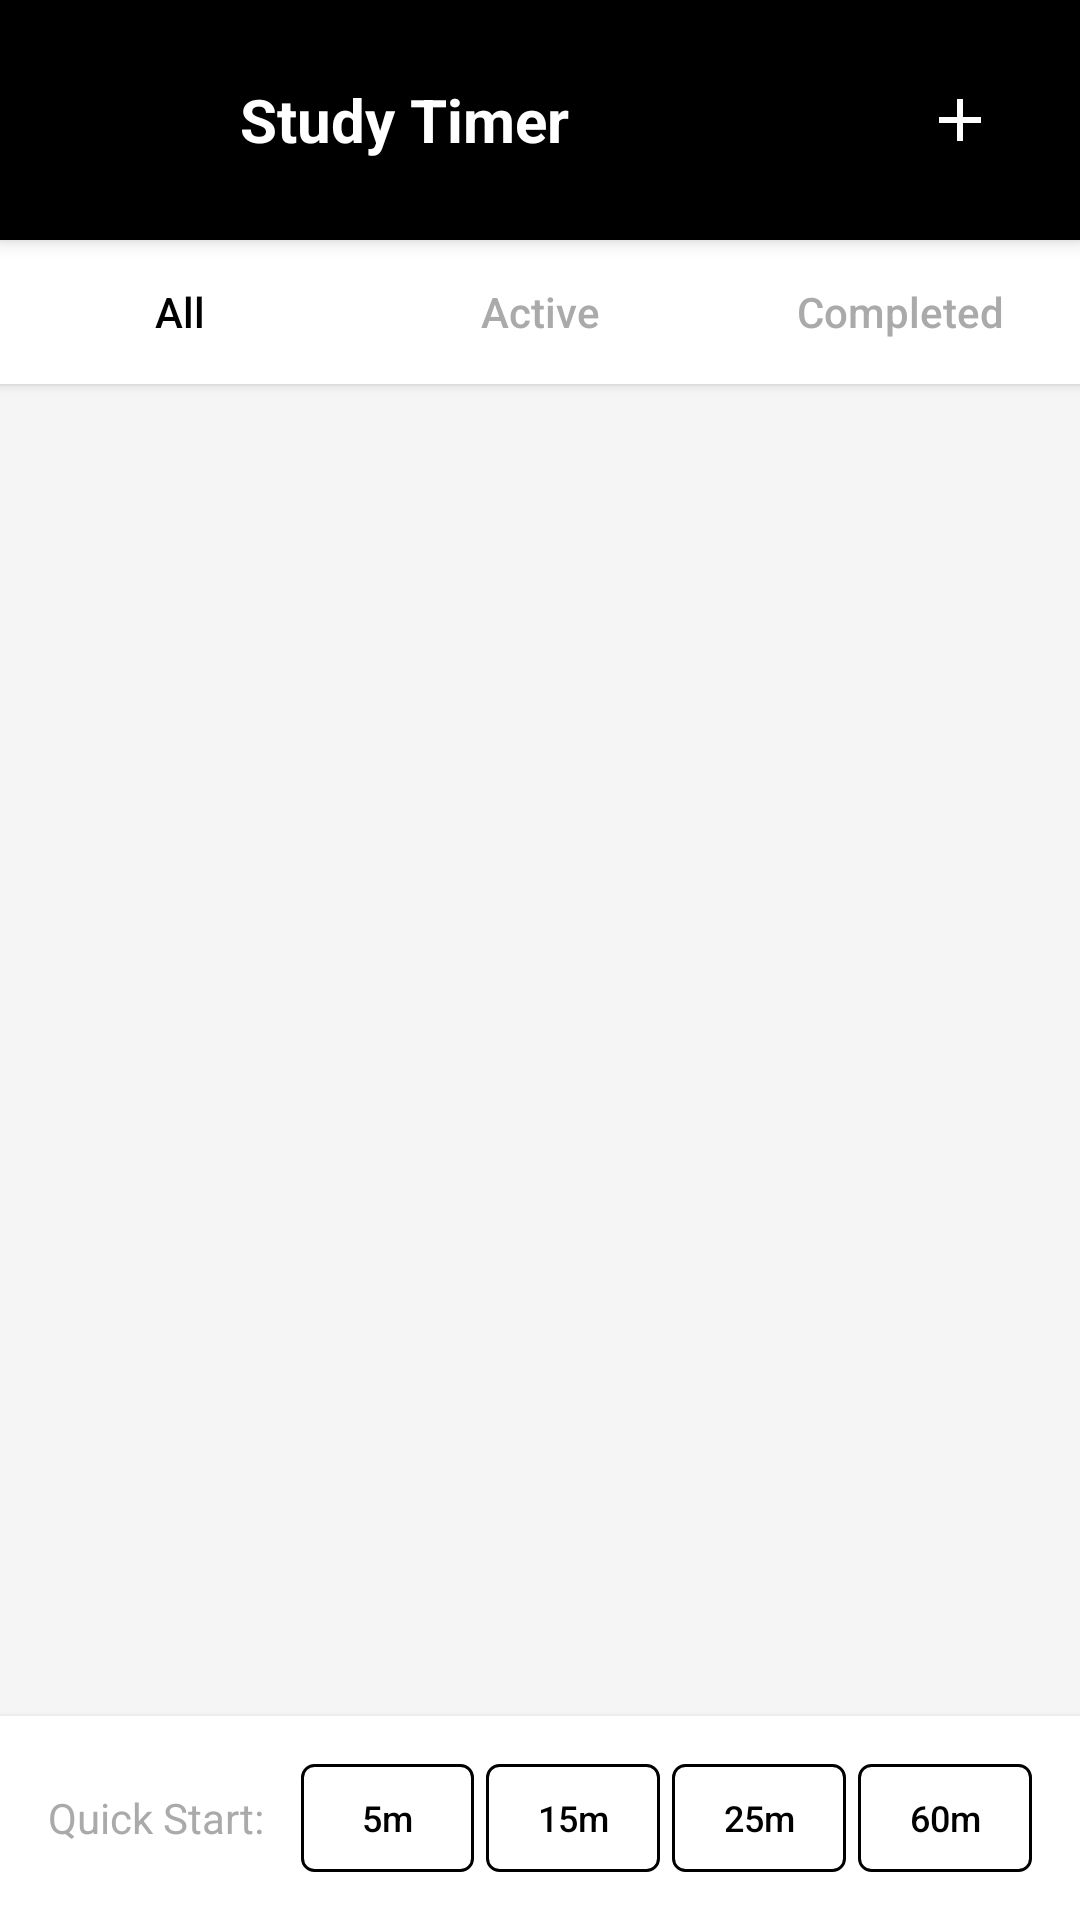

Screen size 1080w x 1920h. Icon name, then its center in pixels as [x,y]:
Add Timer: [960,120]
